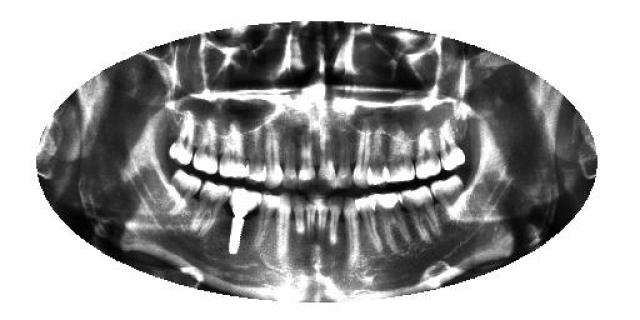Implant: (229, 188, 260, 256)
